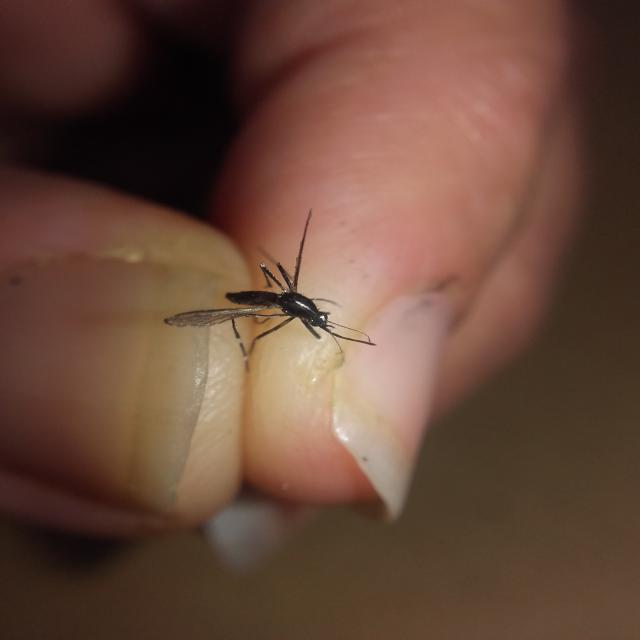albopictus: (162, 209, 371, 368)
